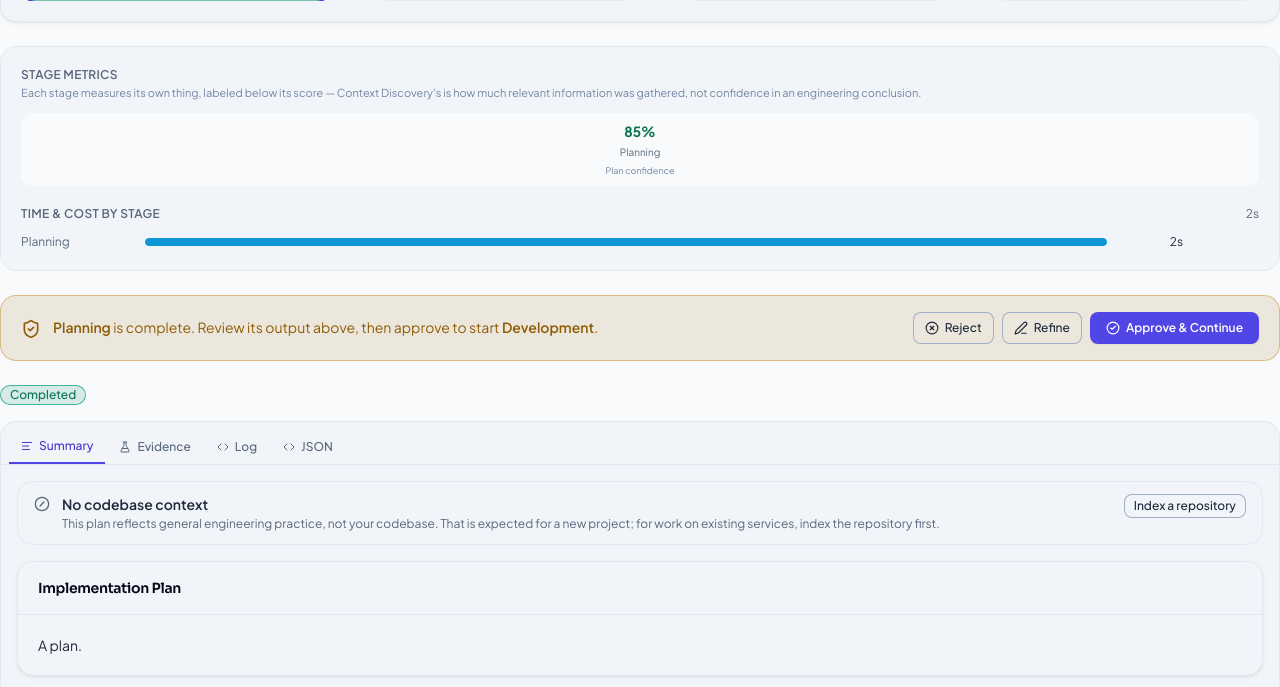
WorkflowPage › retries with acknowledge_partial=true when Continue anyway is clicked
(page scrolled)
What coordinates should you click on to do the following:
click the button "Approve & Continue"
I would click on:
 (1174, 328)
Its box is [1090,312,1259,344].
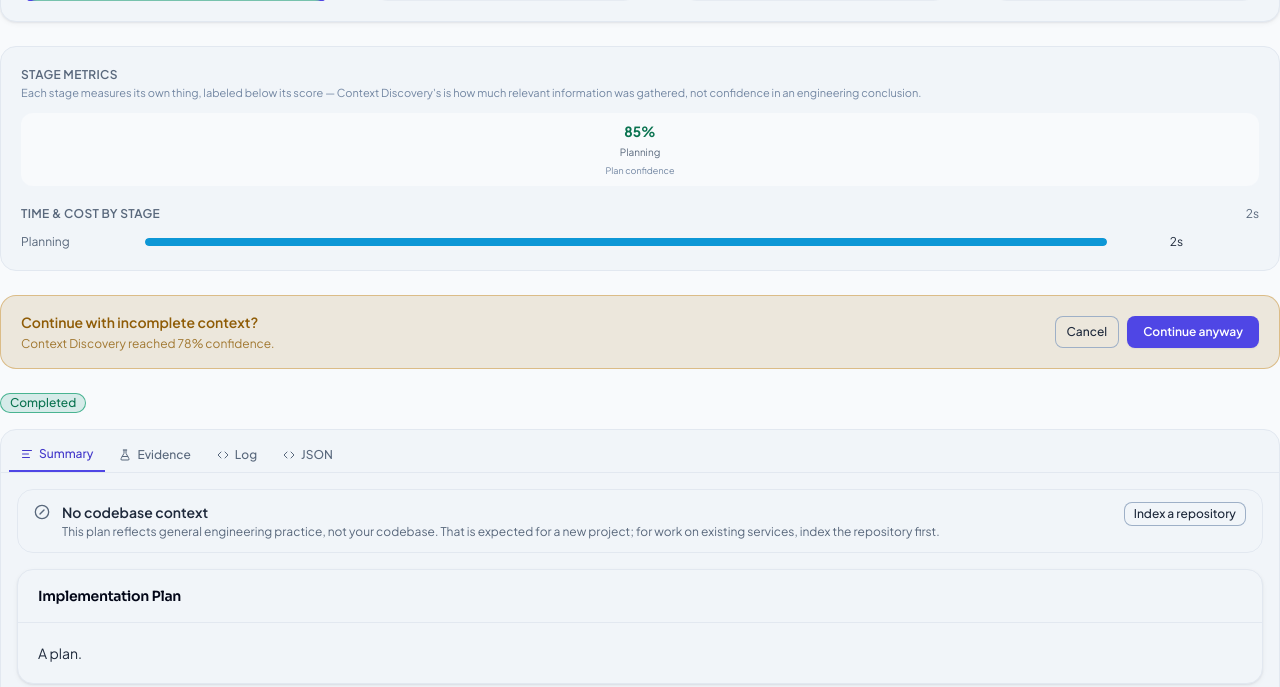
Expected: the text "Continue with incomplete context?" is shown, [21,312,275,332]
What coordinates should you click on to do the following:
click the button "Continue anyway"
I would click on:
 (1193, 332)
Its box is [1127,316,1259,348].
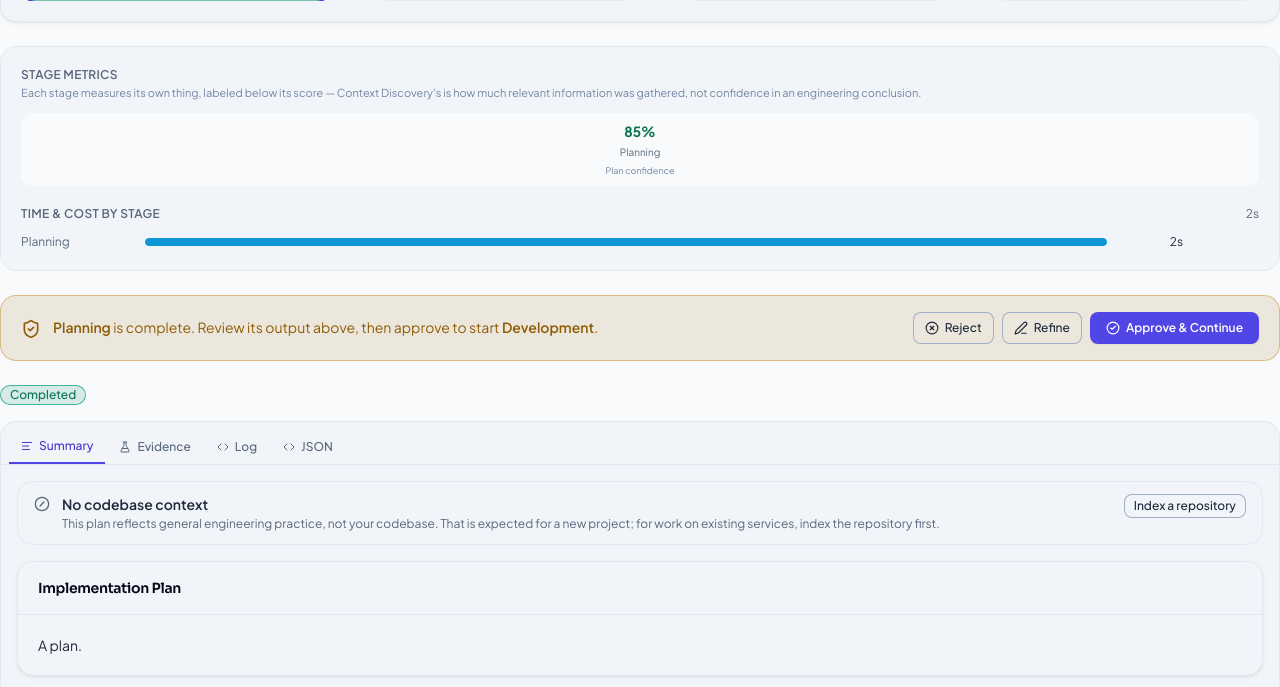
Expected: the text "Continue with incomplete context?" is gone
